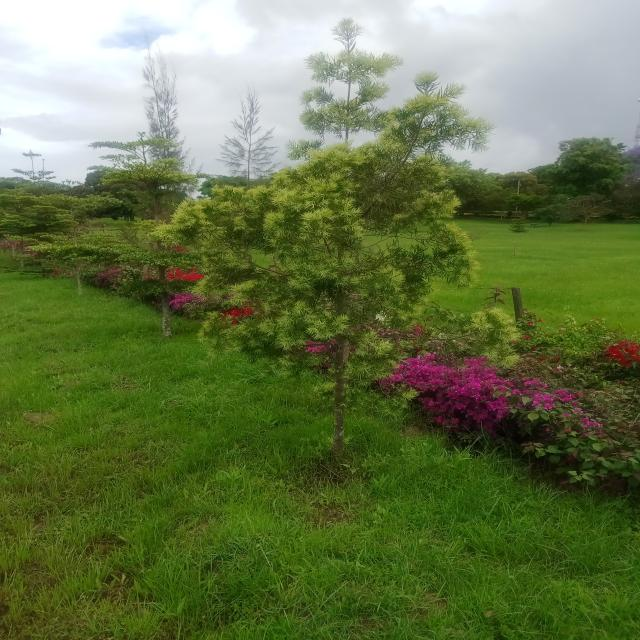Podocarpus falcatus: (164, 26, 504, 491)
